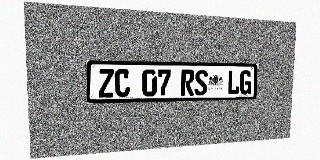0: (142, 69, 157, 97)
7: (157, 69, 171, 96)
C: (114, 69, 130, 97)
G: (239, 70, 252, 95)
L: (227, 70, 240, 95)
R: (181, 70, 194, 96)
S: (194, 70, 208, 96)
Z: (98, 69, 114, 97)
